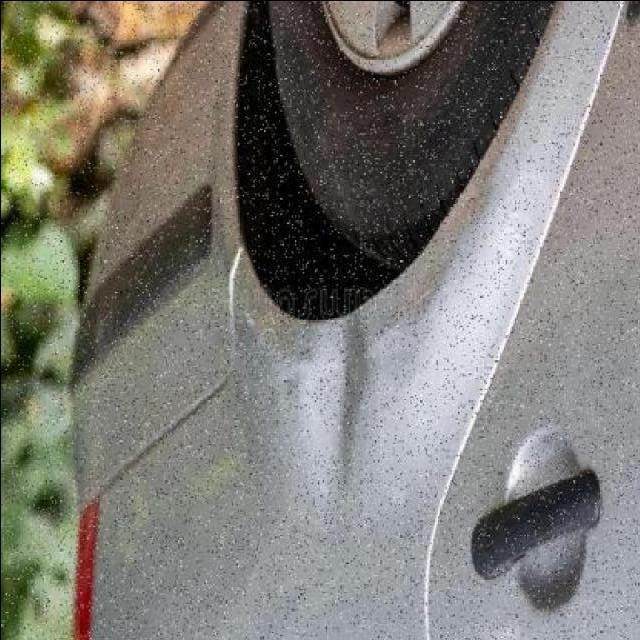quaterpanel-dent: (101, 86, 470, 640)
